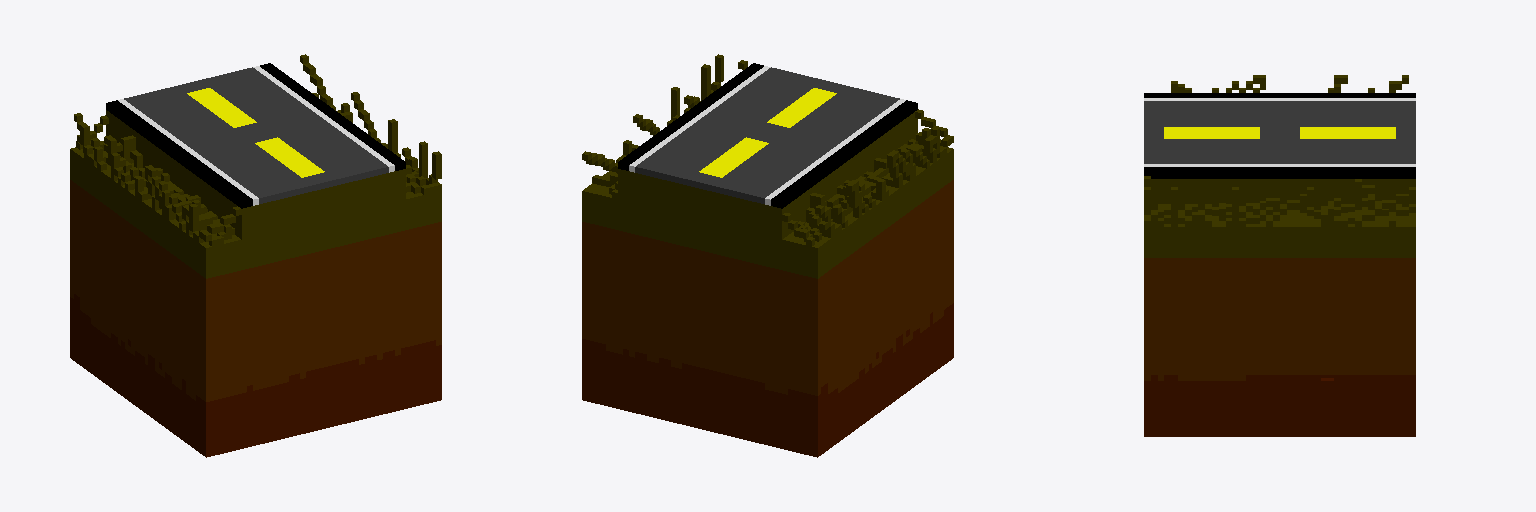
The picture shows the model from 3 angles: view 1: azimuth 30°, elevation 25°; view 2: azimuth 150°, elevation 25°; view 3: azimuth 270°, elevation 25°; orthographic projection.
Visible parts, largest first — view 1: RoadBlockStraight.Merged_Plane-tex; view 2: RoadBlockStraight.Merged_Plane-tex; view 3: RoadBlockStraight.Merged_Plane-tex.
Part boxes in pixels (left/top/right/bottom): RoadBlockStraight.Merged_Plane-tex: left=70, top=54, right=441, bottom=457; RoadBlockStraight.Merged_Plane-tex: left=582, top=54, right=953, bottom=457; RoadBlockStraight.Merged_Plane-tex: left=1144, top=75, right=1415, bottom=436.
Size of the model in its own units: 10 by 10 by 10.
1 materials, 1 textured.